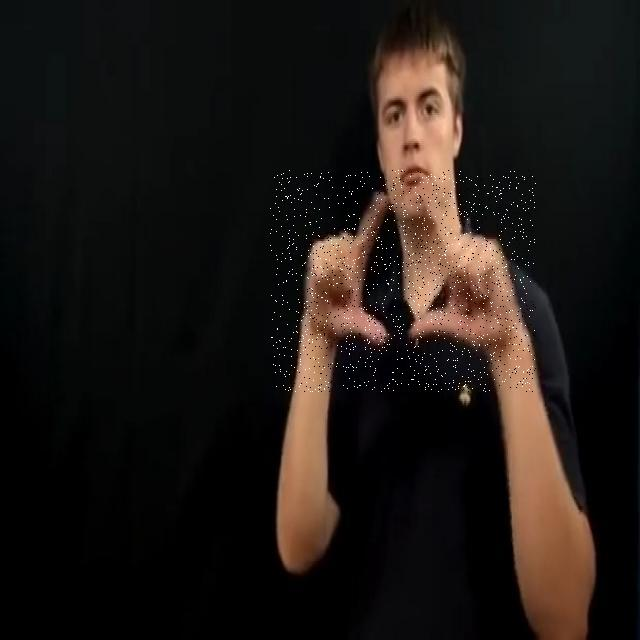bill: (270, 170, 536, 392)
